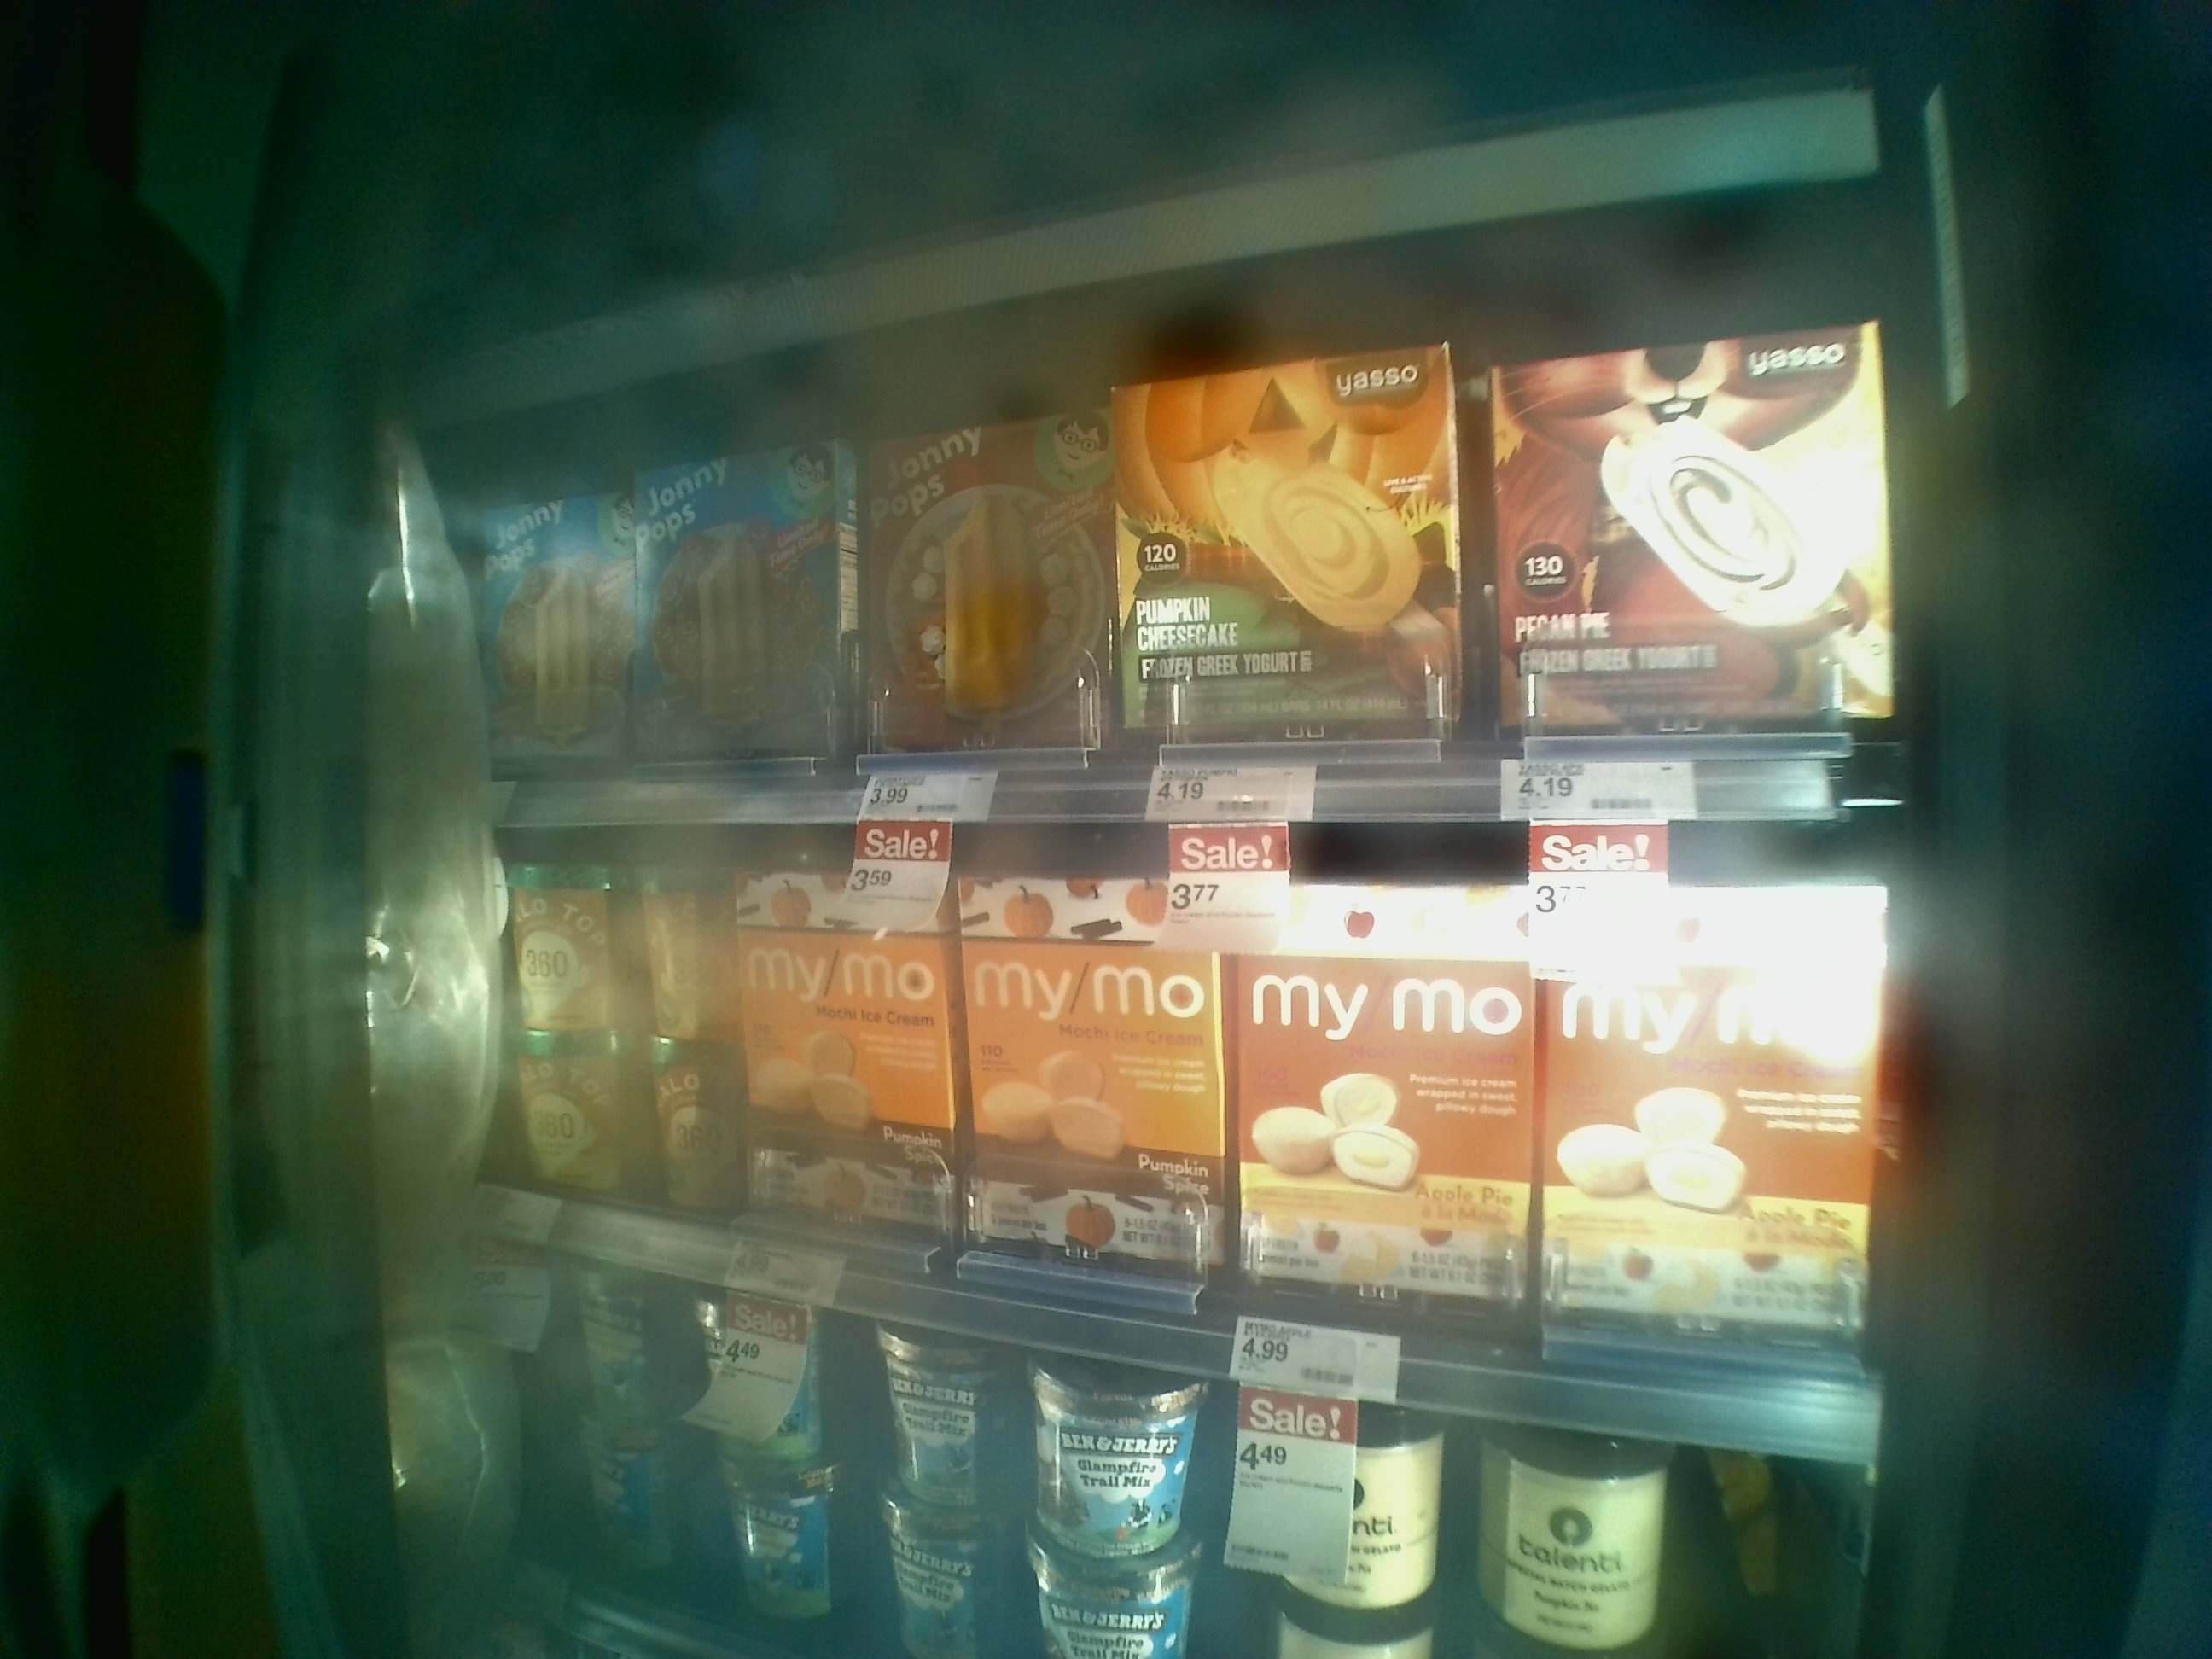shelf: (455, 802, 1886, 1391), (404, 380, 1890, 845)
